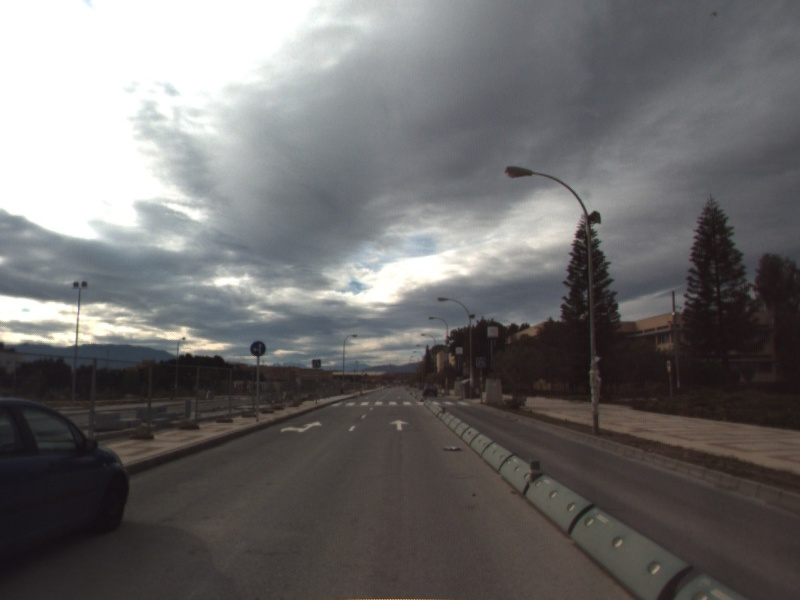STRAIGHT: (388, 417, 411, 433)
STRAIGHT_LEFT: (278, 419, 324, 435)
